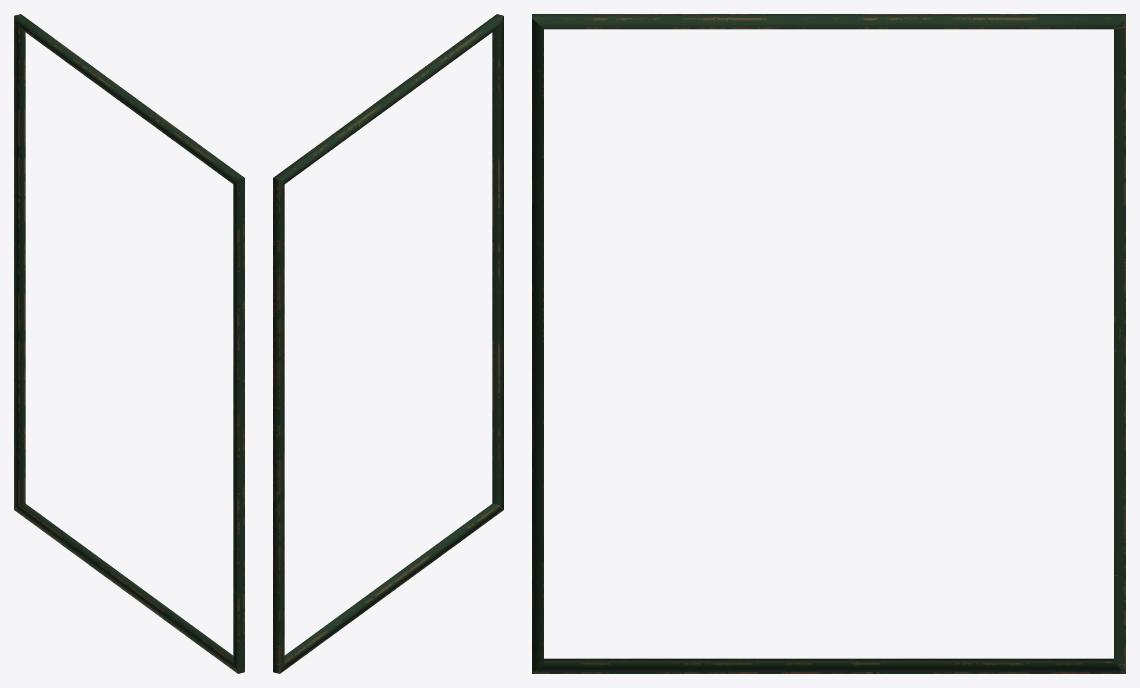
The model's file is Pegboard_Frame_low.obj.
The picture shows the model from 3 angles, left to right: view 1: azimuth 30°, elevation 25°; view 2: azimuth 150°, elevation 25°; view 3: azimuth 270°, elevation 25°; orthographic projection. The views are drawn at different scales.
Size of the model in its own units: 0.0175 by 1.2 by 0.9871.
